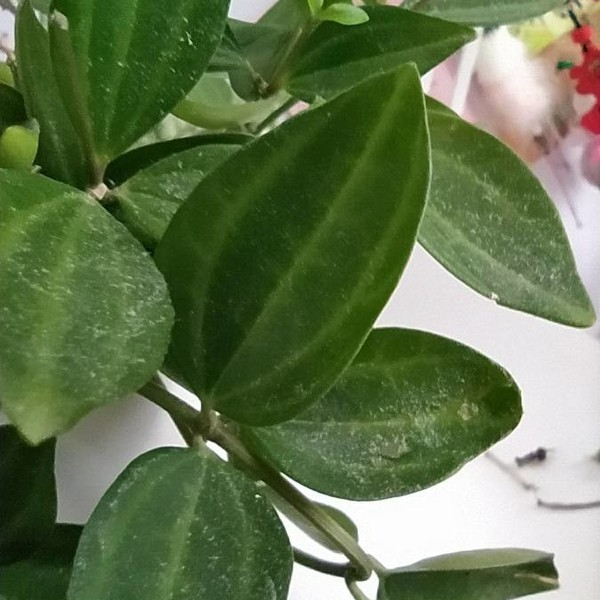obstacle: (47, 62, 534, 576)
